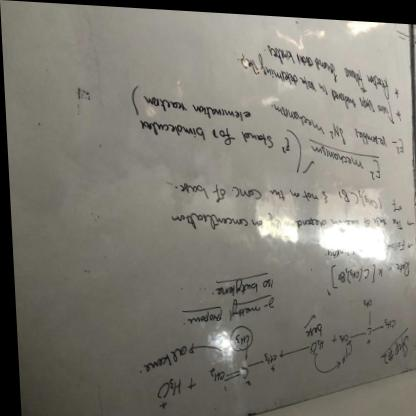Handwritten text: (233, 48, 404, 124), (256, 34, 403, 99), (160, 203, 408, 238), (125, 115, 280, 156), (139, 88, 262, 128), (172, 177, 321, 208), (300, 134, 371, 168)
